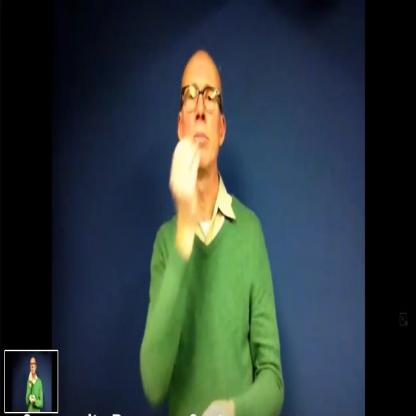Food: (143, 21, 236, 272)
